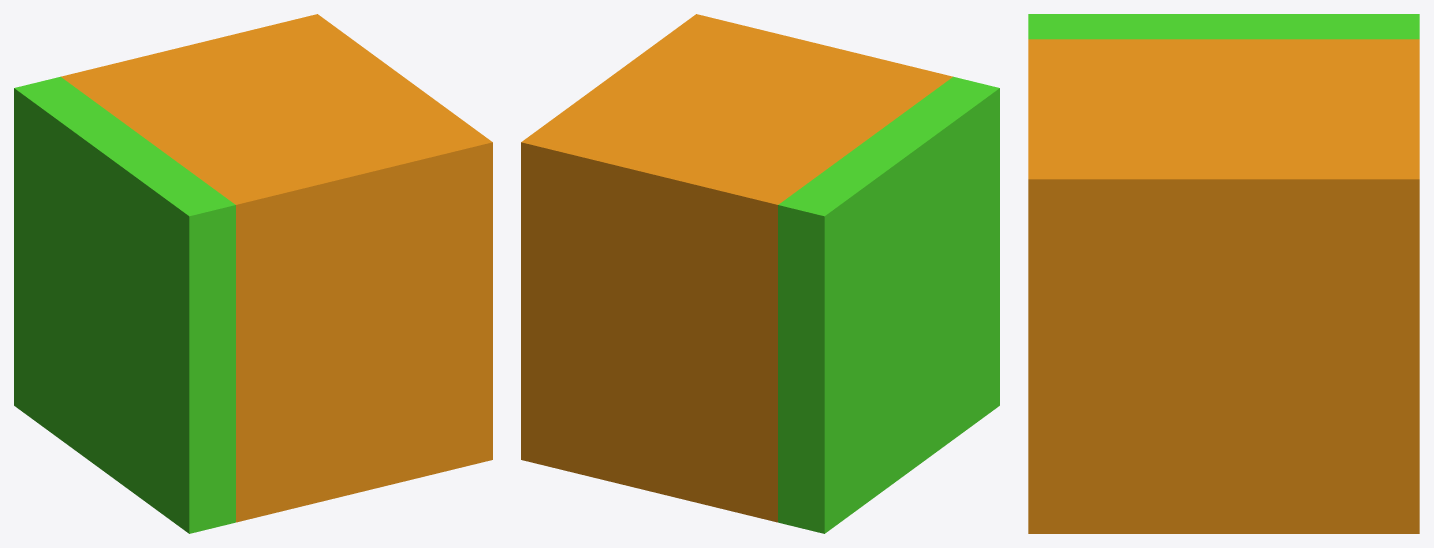
The model's file is Grass.fbx.
3 renders of one model, left to right at view 1: azimuth 30°, elevation 25°; view 2: azimuth 150°, elevation 25°; view 3: azimuth 270°, elevation 25°, orthographic. The views are drawn at different scales.
Parts seen in each view (by area): view 1: Grass; view 2: Grass; view 3: Grass.
Part boxes in pixels (<box>): Grass: <box>14,14,492,533</box>; Grass: <box>521,14,999,533</box>; Grass: <box>1028,14,1419,533</box>.
Size of the model in its own units: 100 by 100 by 100.
